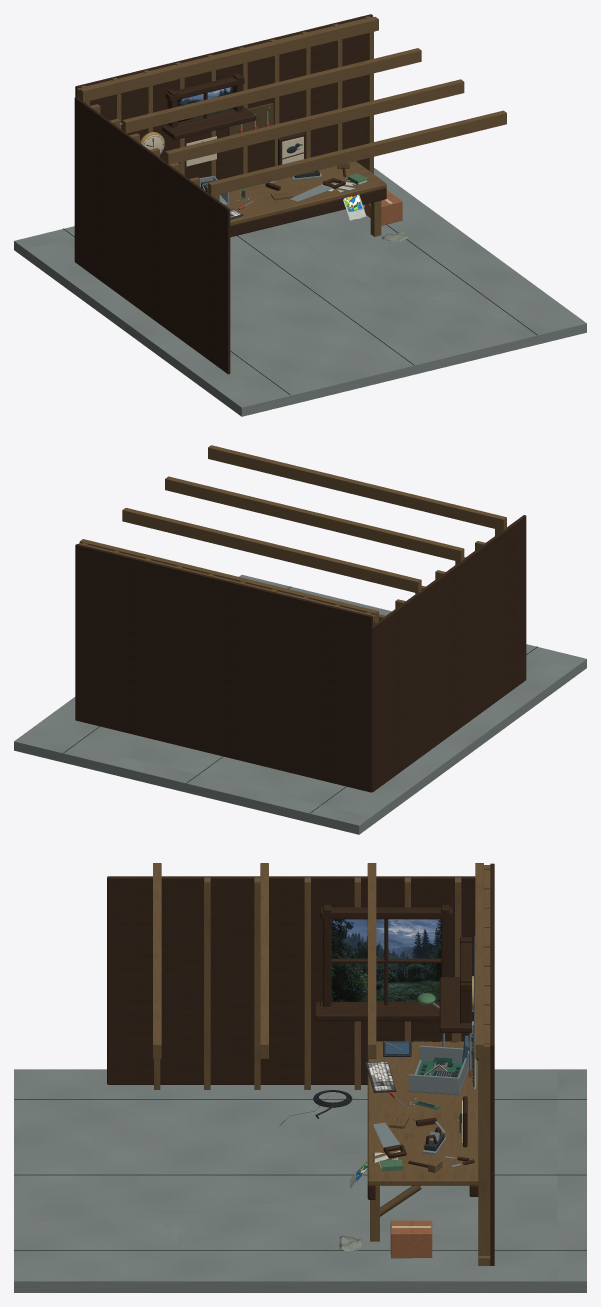
Rendered from workshop.glb.
3 renders of one model, top to bottom at view 1: azimuth 30°, elevation 25°; view 2: azimuth 150°, elevation 25°; view 3: azimuth 270°, elevation 25°, orthographic. The views are drawn at different scales.
Visible parts, largest first — view 1: Bare poured concrete slab, Unfinished side sheathing, Garage raw rear sheathing, Open garage ceiling joist.002, Open garage ceiling joist.001, Open garage ceiling joist.003, Open garage ceiling joist, Wall-mounted workbench top, Workbench front apron, Deep sill, Exposed garage wall stud.009, Exposed garage wall stud.008 (+5 smaller); view 2: Garage raw rear sheathing, Unfinished side sheathing, Bare poured concrete slab, Open garage ceiling joist.001, Open garage ceiling joist.002, Open garage ceiling joist, Open garage ceiling joist.003, Garage framing plate.001; view 3: Bare poured concrete slab, Unfinished side sheathing, Wall-mounted workbench top, Garden beyond window.001, Exposed garage wall stud.009, Open computer assembly, Garage raw rear sheathing, Open garage ceiling joist.002, Deep sill.001, Open garage ceiling joist, Open garage ceiling joist.001, Open garage ceiling joist.003 (+15 smaller).
Part boxes in pixels (left/top/right/bottom): Bare poured concrete slab: left=14, top=168, right=586, bottom=416; Unfinished side sheathing: left=74, top=97, right=230, bottom=374; Garage raw rear sheathing: left=75, top=14, right=372, bottom=179; Open garage ceiling joist.002: left=122, top=48, right=421, bottom=133; Open garage ceiling joist.001: left=165, top=79, right=464, bottom=164; Open garage ceiling joist.003: left=79, top=16, right=378, bottom=102; Open garage ceiling joist: left=208, top=110, right=506, bottom=195; Wall-mounted workbench top: left=226, top=153, right=386, bottom=225; Workbench front apron: left=230, top=188, right=386, bottom=237; Deep sill: left=162, top=106, right=256, bottom=139; Exposed garage wall stud.009: left=365, top=16, right=373, bottom=173; Exposed garage wall stud.008: left=333, top=24, right=342, bottom=151; Garage raw rear sheathing: left=75, top=544, right=372, bottom=792; Unfinished side sheathing: left=371, top=515, right=526, bottom=792; Bare poured concrete slab: left=14, top=575, right=586, bottom=834; Open garage ceiling joist.001: left=165, top=476, right=464, bottom=561; Open garage ceiling joist.002: left=122, top=508, right=421, bottom=592; Open garage ceiling joist: left=208, top=445, right=506, bottom=530; Open garage ceiling joist.003: left=79, top=539, right=378, bottom=624; Garage framing plate.001: left=78, top=543, right=377, bottom=622; Bare poured concrete slab: left=14, top=1069, right=586, bottom=1292; Unfinished side sheathing: left=107, top=876, right=475, bottom=1084; Wall-mounted workbench top: left=367, top=1041, right=478, bottom=1185; Garden beyond window.001: left=331, top=919, right=441, bottom=1001; Exposed garage wall stud.009: left=478, top=1040, right=490, bottom=1255; Open computer assembly: left=408, top=1045, right=469, bottom=1095; Garage raw rear sheathing: left=490, top=863, right=494, bottom=1265; Open garage ceiling joist.002: left=367, top=863, right=376, bottom=1058; Deep sill.001: left=314, top=1002, right=439, bottom=1021; Open garage ceiling joist: left=153, top=863, right=161, bottom=1058; Open garage ceiling joist.001: left=260, top=863, right=268, bottom=1058; Open garage ceiling joist.003: left=475, top=863, right=483, bottom=1058.
Size of the model in its own units: 7 by 3.59 by 8.
Materials: 23 (22 with a texture image).
